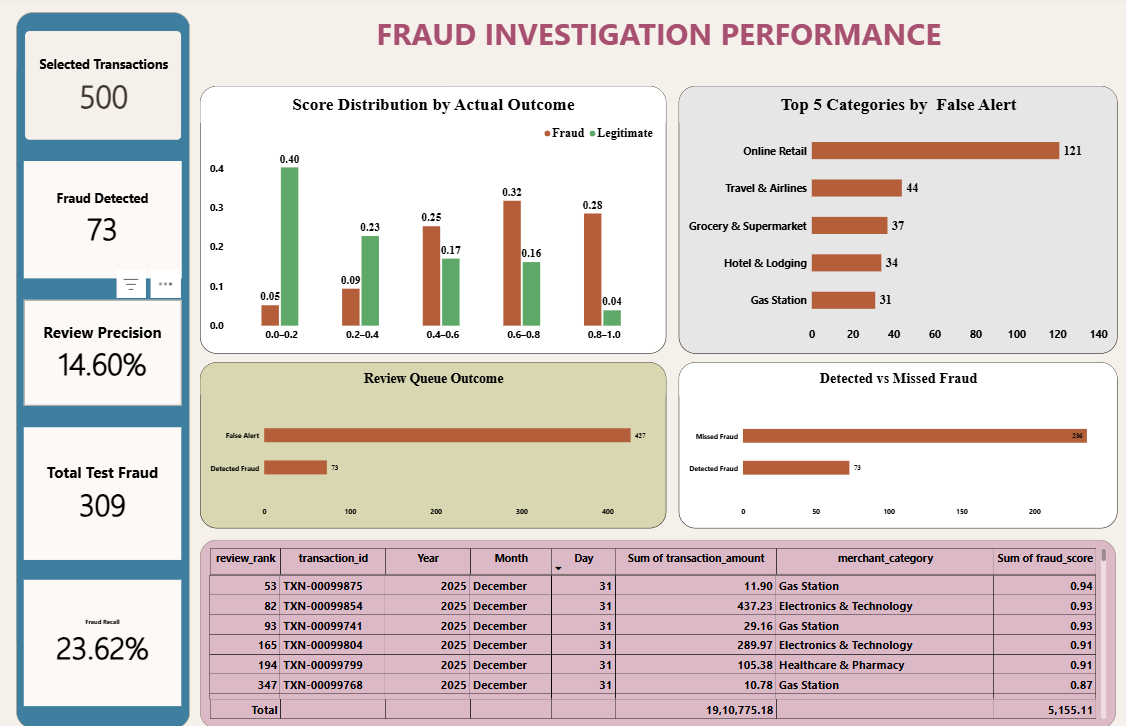

Layout of this report page (visuals, bound fields, positions):
{"tool":"powerbi","page":{"name":"Page 2","canvas":[2000,1300],"ordinal":1},"visuals":[{"type":"shape","box":[28.8,28.8,307.9,1269.4],"z":0},{"type":"cardVisual","fields":{"Data":["Test_Predictions.Selected Transactions"]},"box":[44.3,62,277.9,193.3],"z":1000},{"type":"cardVisual","fields":{"Data":["Test_Predictions.Fraud Detected"]},"box":[42.1,292.4,279.8,208],"z":2000},{"type":"cardVisual","fields":{"Data":["Test_Predictions.Review Precision"]},"box":[42.1,538.3,279.8,187.7],"z":3000},{"type":"cardVisual","fields":{"Data":["Test_Predictions.Total Test Fraud"]},"box":[42.1,764.3,279.1,234.8],"z":4000},{"type":"cardVisual","fields":{"Data":["Test_Predictions.Fraud Recall"]},"box":[42.1,1034.6,279.1,223.8],"z":5000},{"type":"clusteredBarChart","title":"Review Queue Outcome","fields":{"Category":["Test_Predictions.Review Outcome"],"Y":["CountNonNull(Test_Predictions.transaction_id)"]},"box":[354.5,649.1,826.4,294.7],"z":6000},{"type":"clusteredBarChart","title":"Detected vs Missed Fraud","fields":{"Category":["Test_Predictions.Review Outcome"],"Y":["CountNonNull(Test_Predictions.transaction_id)"]},"box":[1203,649.1,777.6,294.7],"z":7000},{"type":"tableEx","fields":{"Values":["Test_Predictions.review_rank","Test_Predictions.transaction_id","Test_Predictions.transaction_datetime.Variation.Date Hierarchy.Year","Test_Predictions.transaction_datetime.Variation.Date Hierarchy.Month","Test_Predictions.transaction_datetime.Variation.Date Hierarchy.Day","Sum(Test_Predictions.transaction_amount)","Test_Predictions.merchant_category","Sum(Test_Predictions.fraud_score)"]},"box":[354.5,963.7,1623.3,335],"z":8000},{"type":"clusteredColumnChart","title":"Score Distribution by Actual Outcome","fields":{"Category":["Test_Predictions.Score Band"],"Series":["Test_Predictions.Actual Outcome"],"Y":["Test_Predictions.Within Class Share"]},"box":[354.5,159.5,826.4,474.1],"z":9000},{"type":"clusteredBarChart","title":"Top 5 Categories by  False Alert","fields":{"Category":["Current_Dataset.merchant_category"],"Y":["Test_Predictions.False Alerts"]},"box":[1203,159.5,777.6,474.1],"z":10000},{"type":"textbox","box":[354.5,28.8,1626.1,130.7],"z":11000}]}

Visuals, with their boxes in screenshot pixels (x1, y1, x2, y2), scaled from the page's 2000x1300 canvas onto the 1126x726 screenshot:
shape: l=16, t=16, r=190, b=725
cardVisual - Test_Predictions.Selected Transactions: l=25, t=35, r=181, b=143
cardVisual - Test_Predictions.Fraud Detected: l=24, t=163, r=181, b=279
cardVisual - Test_Predictions.Review Precision: l=24, t=301, r=181, b=405
cardVisual - Test_Predictions.Total Test Fraud: l=24, t=427, r=181, b=558
cardVisual - Test_Predictions.Fraud Recall: l=24, t=578, r=181, b=703
"Review Queue Outcome" clusteredBarChart: l=200, t=362, r=665, b=527
"Detected vs Missed Fraud" clusteredBarChart: l=677, t=362, r=1115, b=527
tableEx - Test_Predictions.review_rank x Test_Predictions.transaction_id: l=200, t=538, r=1114, b=725
"Score Distribution by Actual Outcome" clusteredColumnChart: l=200, t=89, r=665, b=354
"Top 5 Categories by  False Alert" clusteredBarChart: l=677, t=89, r=1115, b=354
textbox: l=200, t=16, r=1115, b=89
